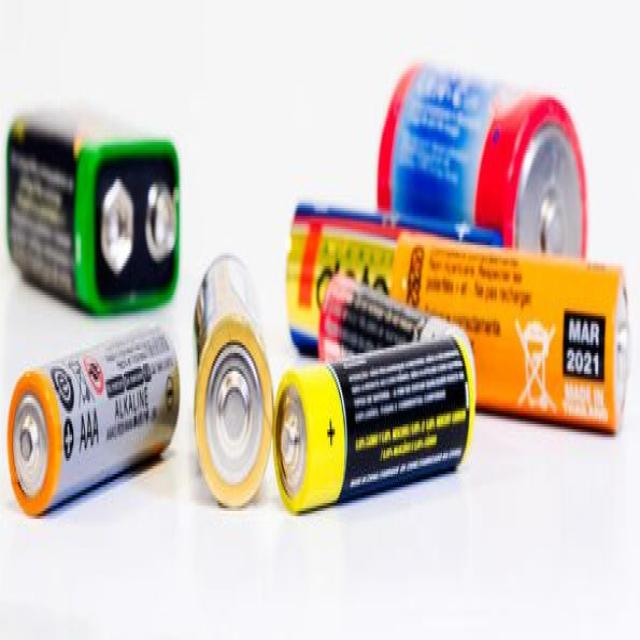electronic: (270, 166, 640, 474), (371, 36, 600, 308), (8, 36, 192, 350), (10, 292, 191, 551), (273, 332, 479, 538), (186, 224, 280, 531)
